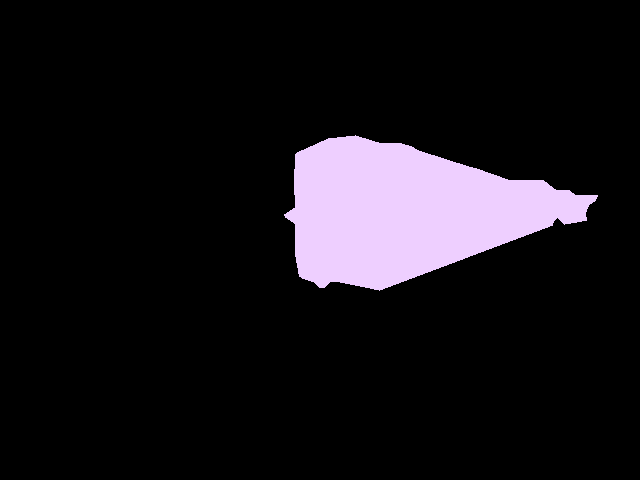Train: (284, 135, 598, 291)
